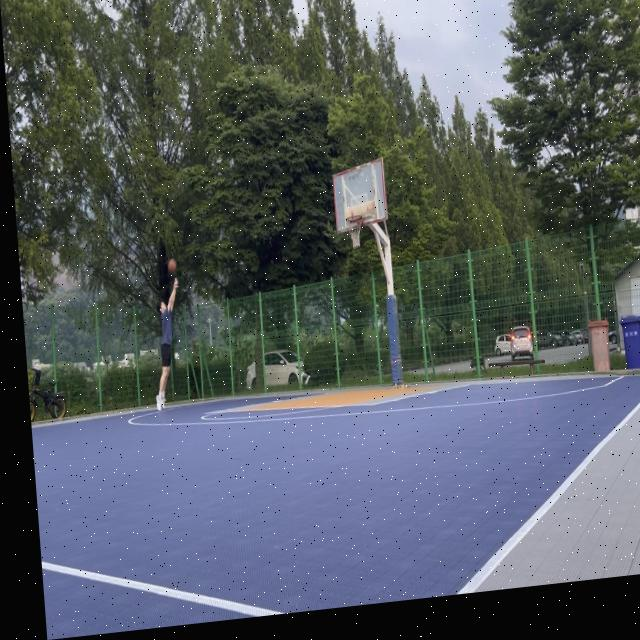basketball: (167, 257, 178, 275)
hoop: (345, 214, 364, 250)
